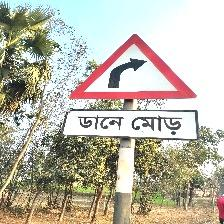Right-turn: (63, 34, 201, 141)
